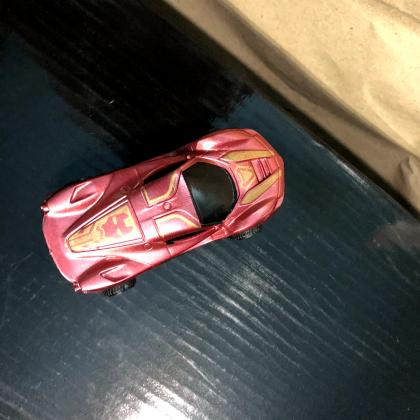Car: (40, 124, 286, 298)
